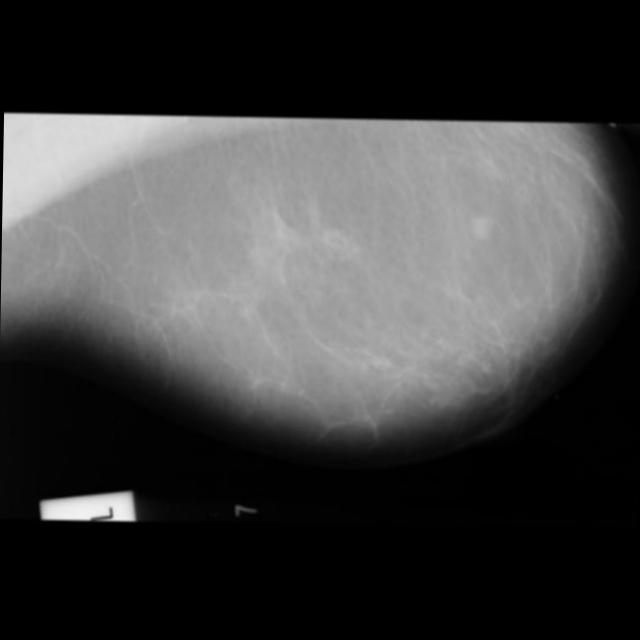CALC: (314, 227, 362, 274)
